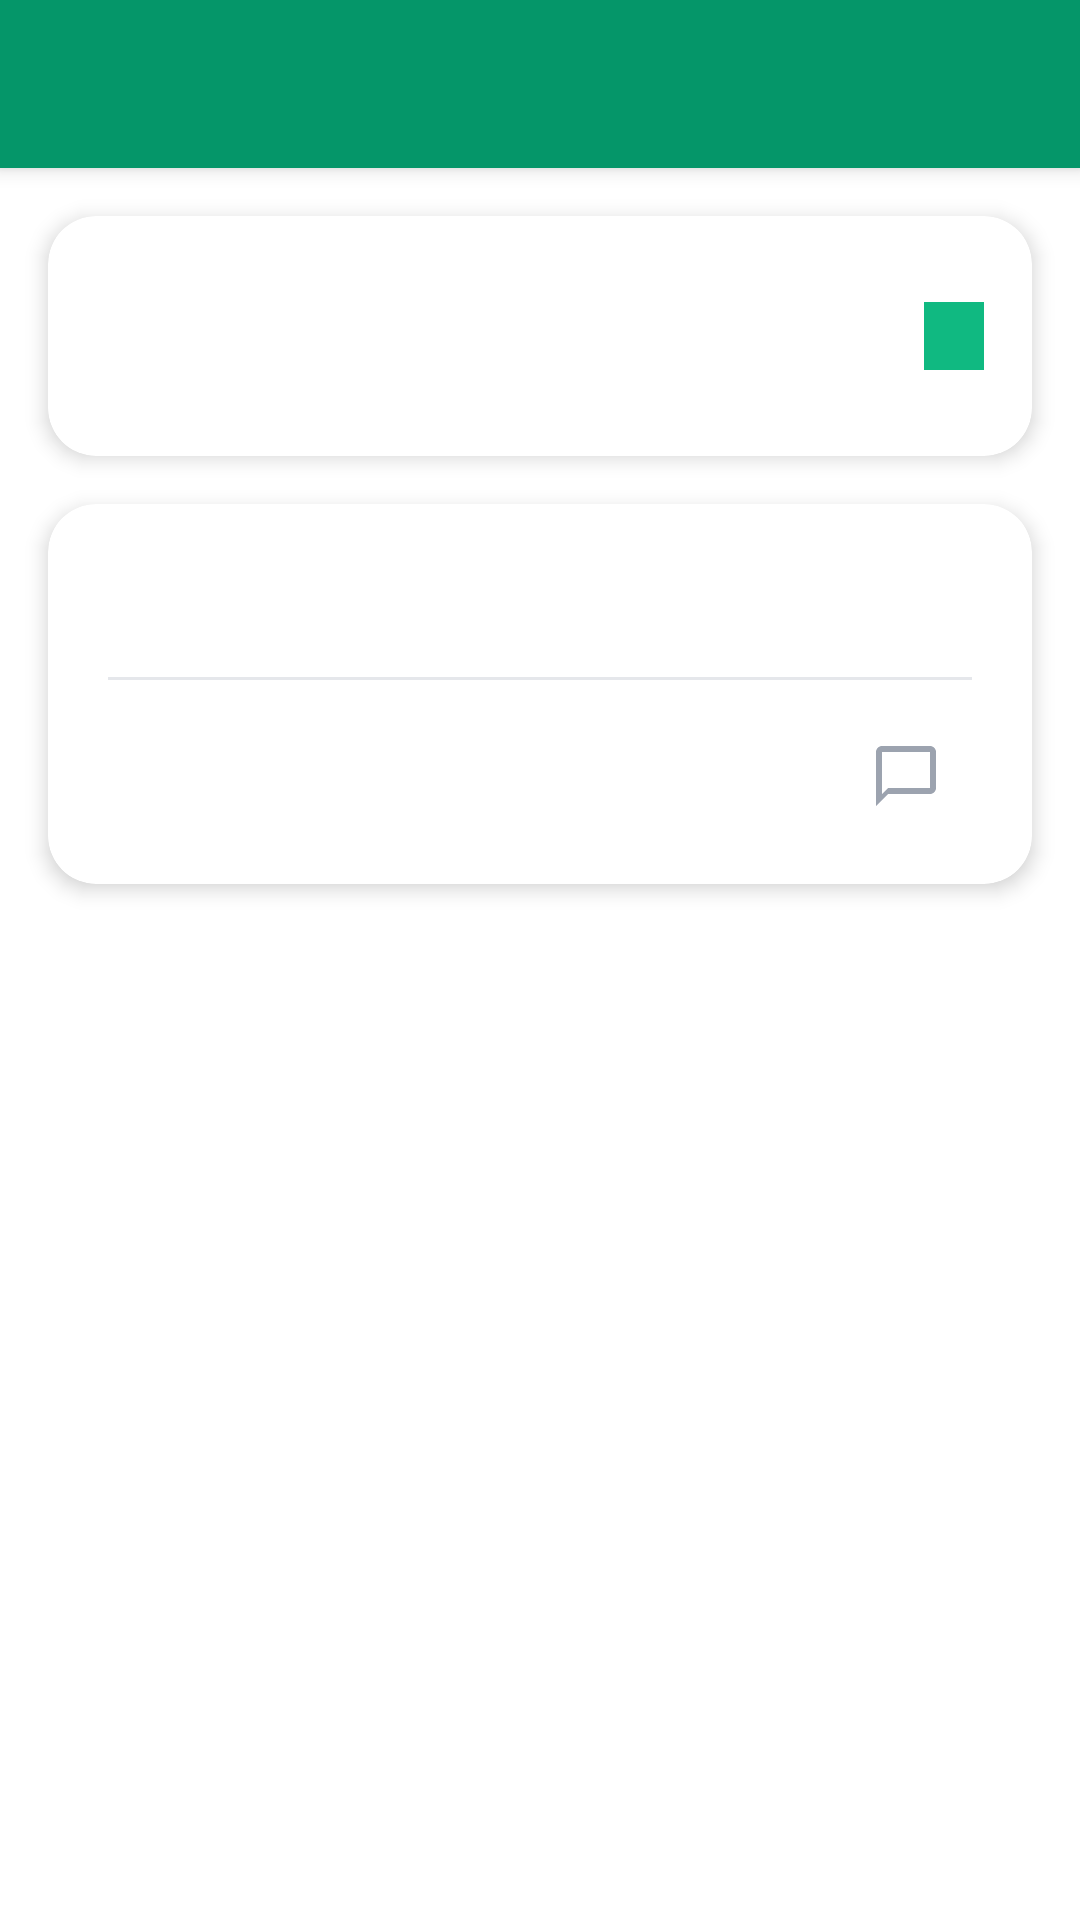

Icon click points for this 1080w x 1920h phone screenshot, format [x,y]:
comment: [906,776]
